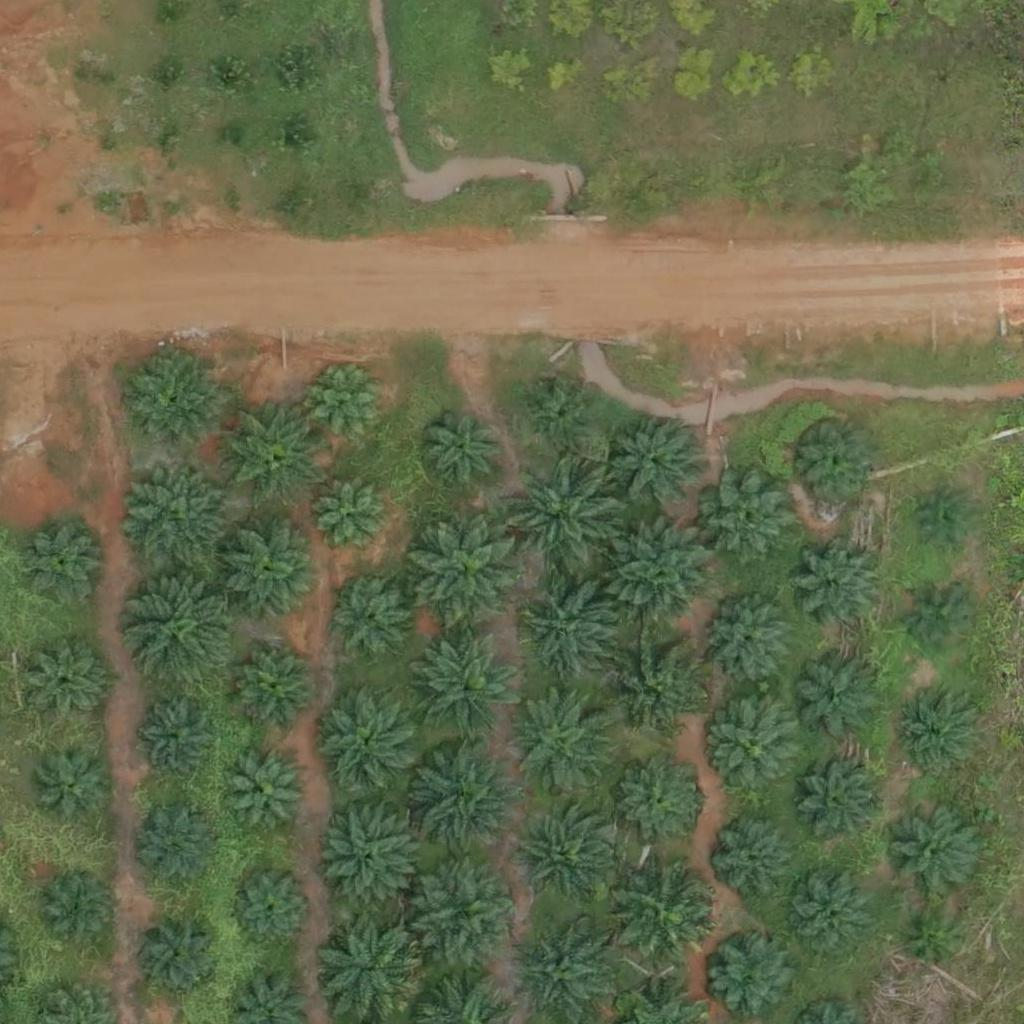Kelapa_Sawit: (509, 447, 634, 572), (124, 464, 237, 578), (130, 571, 243, 685), (411, 511, 524, 624), (416, 630, 529, 743), (410, 739, 523, 852), (410, 857, 522, 971), (125, 351, 225, 452), (223, 402, 323, 503), (524, 577, 624, 678), (514, 692, 614, 793), (514, 813, 614, 914), (612, 523, 712, 624), (604, 639, 704, 740), (618, 862, 718, 963), (223, 522, 323, 622), (320, 689, 420, 789), (323, 803, 423, 903), (710, 701, 798, 790), (613, 421, 701, 509), (614, 756, 702, 844), (710, 813, 798, 901), (709, 933, 797, 1021), (893, 688, 981, 776), (420, 407, 507, 496), (308, 360, 395, 448), (231, 866, 318, 954), (140, 911, 227, 999), (704, 475, 791, 563), (706, 600, 793, 688), (794, 542, 881, 630), (792, 655, 879, 743), (792, 757, 879, 845), (786, 875, 873, 963), (893, 807, 980, 895), (29, 645, 104, 721), (799, 421, 874, 497), (24, 525, 99, 601), (144, 698, 219, 774), (142, 812, 217, 888), (236, 651, 311, 727), (231, 755, 306, 831), (338, 584, 413, 660), (313, 477, 388, 552), (35, 873, 110, 948), (37, 745, 112, 820), (910, 587, 972, 650), (533, 384, 595, 447), (906, 917, 956, 968), (920, 497, 970, 547)
